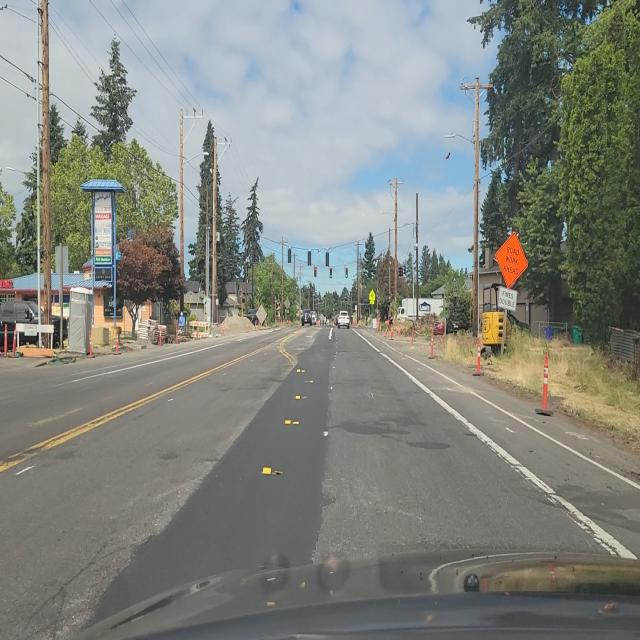car: (1, 299, 68, 348), (299, 309, 318, 327), (244, 308, 260, 326), (338, 310, 350, 330)
crosswalk-sign: (369, 289, 375, 305)
delineator: (540, 348, 550, 411), (471, 331, 484, 376), (11, 323, 18, 358), (3, 323, 9, 357), (429, 327, 435, 359), (89, 329, 93, 356), (410, 324, 414, 348), (116, 330, 120, 354), (390, 320, 394, 340), (384, 320, 388, 338), (377, 318, 381, 333), (222, 322, 226, 336), (244, 320, 248, 332), (176, 321, 178, 344)
